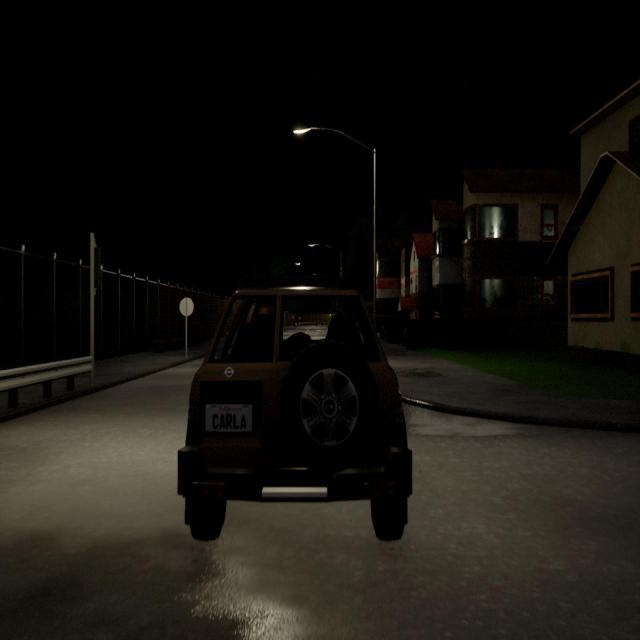Traffic_Signs: (179, 296, 194, 316)
Vehicle: (176, 287, 415, 538)
traffic_light: (93, 247, 101, 288), (329, 312, 331, 317)
